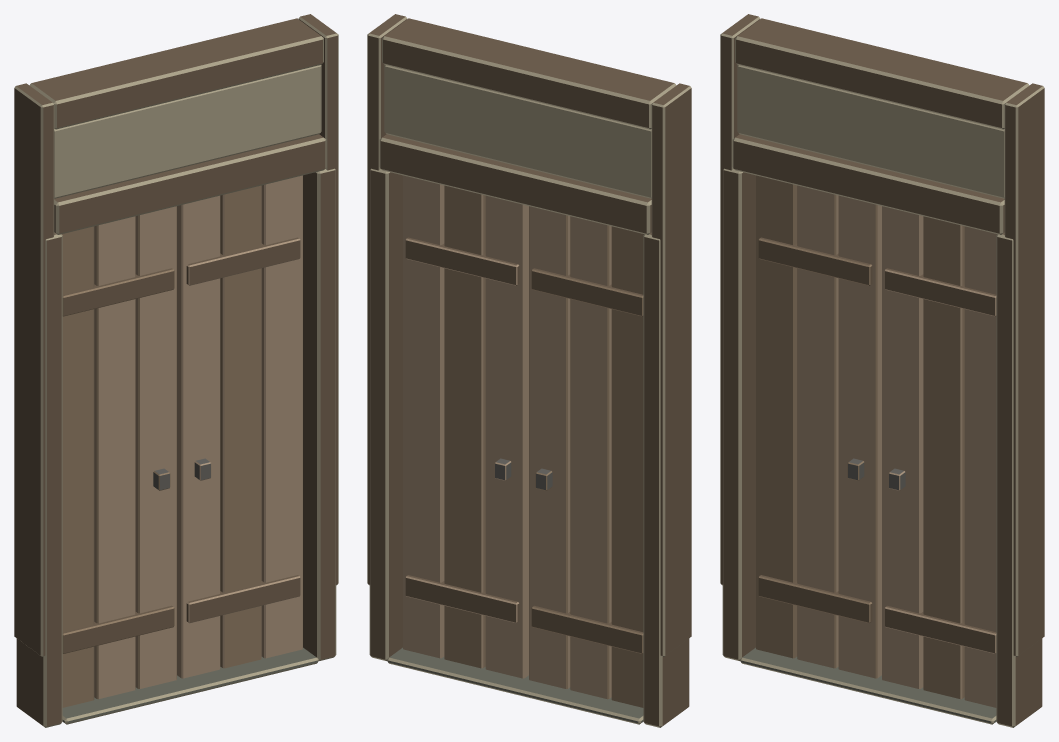
Rendered from door_double.glb.
3 renders of one model, left to right at view 1: azimuth 30°, elevation 25°; view 2: azimuth 150°, elevation 25°; view 3: azimuth 330°, elevation 25°, orthographic.
Visible parts, largest first — view 1: Door_Double_L, Door_Double_Frame; view 2: Door_Double_L, Door_Double_Frame; view 3: Door_Double_L, Door_Double_Frame.
Boxes of the visible parts, left/top/right/bottom form: Door_Double_L: left=62, top=175, right=302, bottom=707; Door_Double_Frame: left=14, top=14, right=338, bottom=727; Door_Double_L: left=403, top=175, right=643, bottom=707; Door_Double_Frame: left=367, top=14, right=691, bottom=727; Door_Double_L: left=756, top=175, right=996, bottom=707; Door_Double_Frame: left=720, top=14, right=1044, bottom=727.
Bounding box in the file's own units: 1.52 × 3.05 × 0.29.
